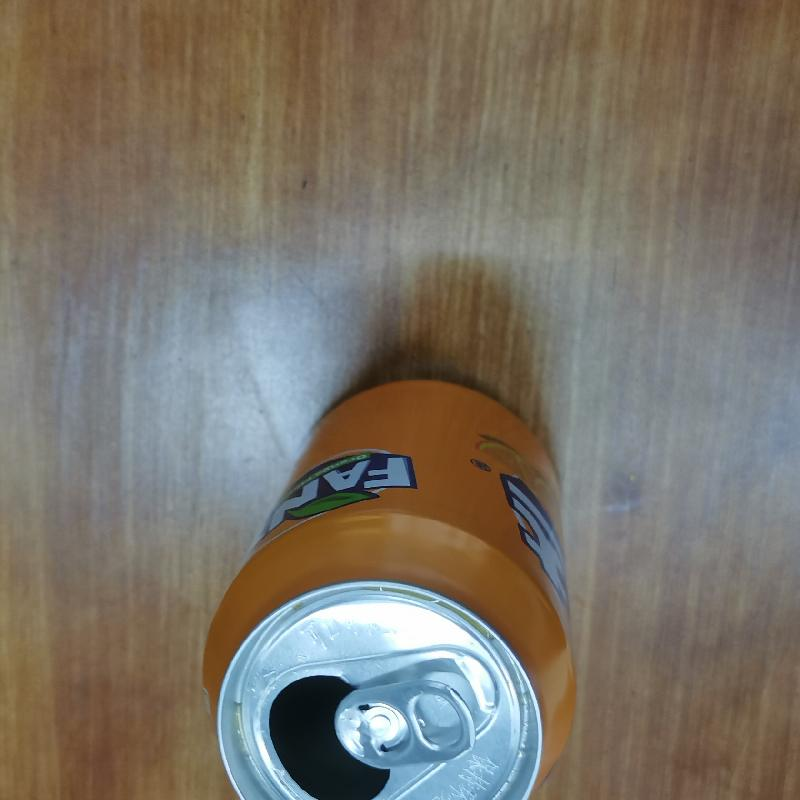cans: (198, 375, 588, 799)
